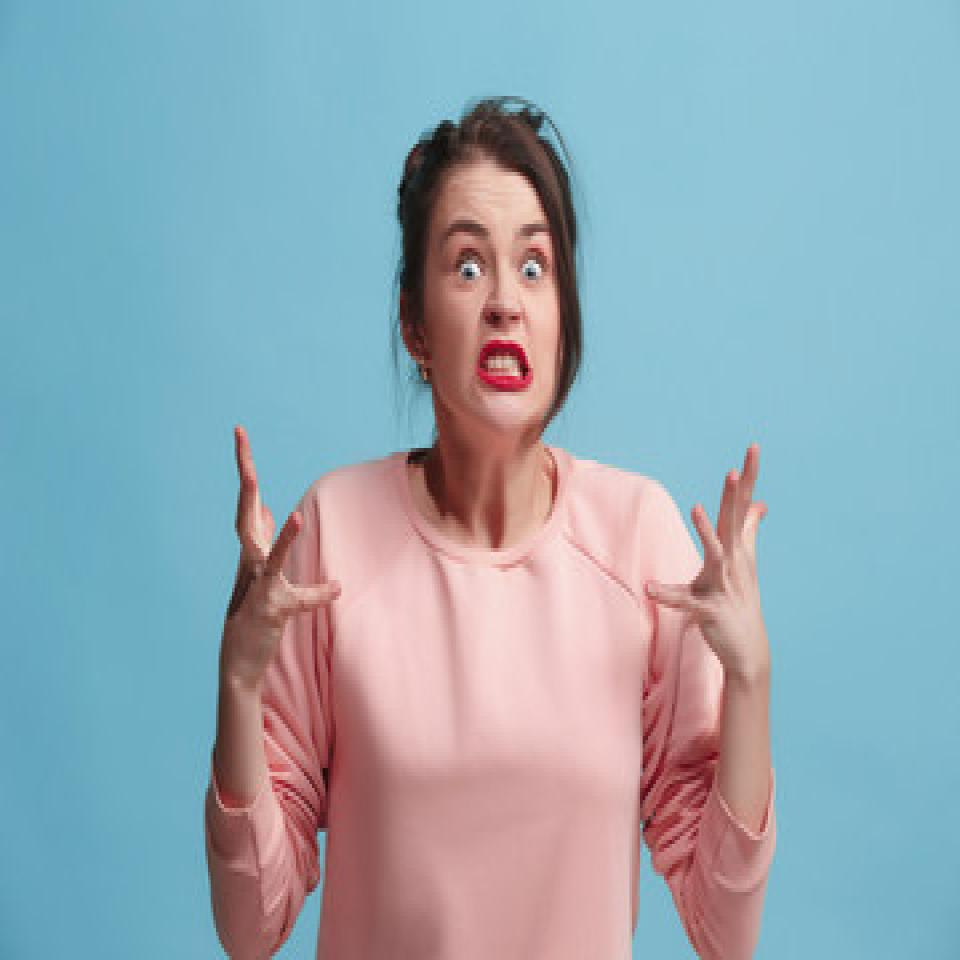Anger: (423, 208, 574, 430)
